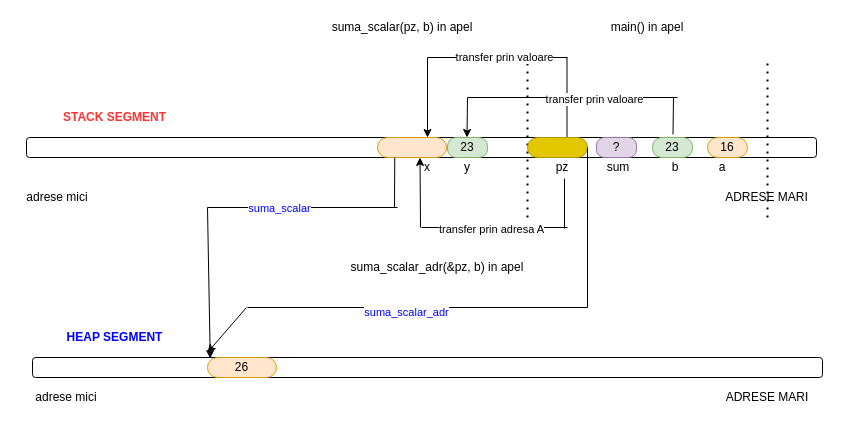
Some shapes in this 851 by 424 pixel diagram are drawn without their labels. Each missing label, with the centre of its shape:
"AH / A" goes at pixel 411 147.
"NULL / AH" goes at pixel 557 147.
